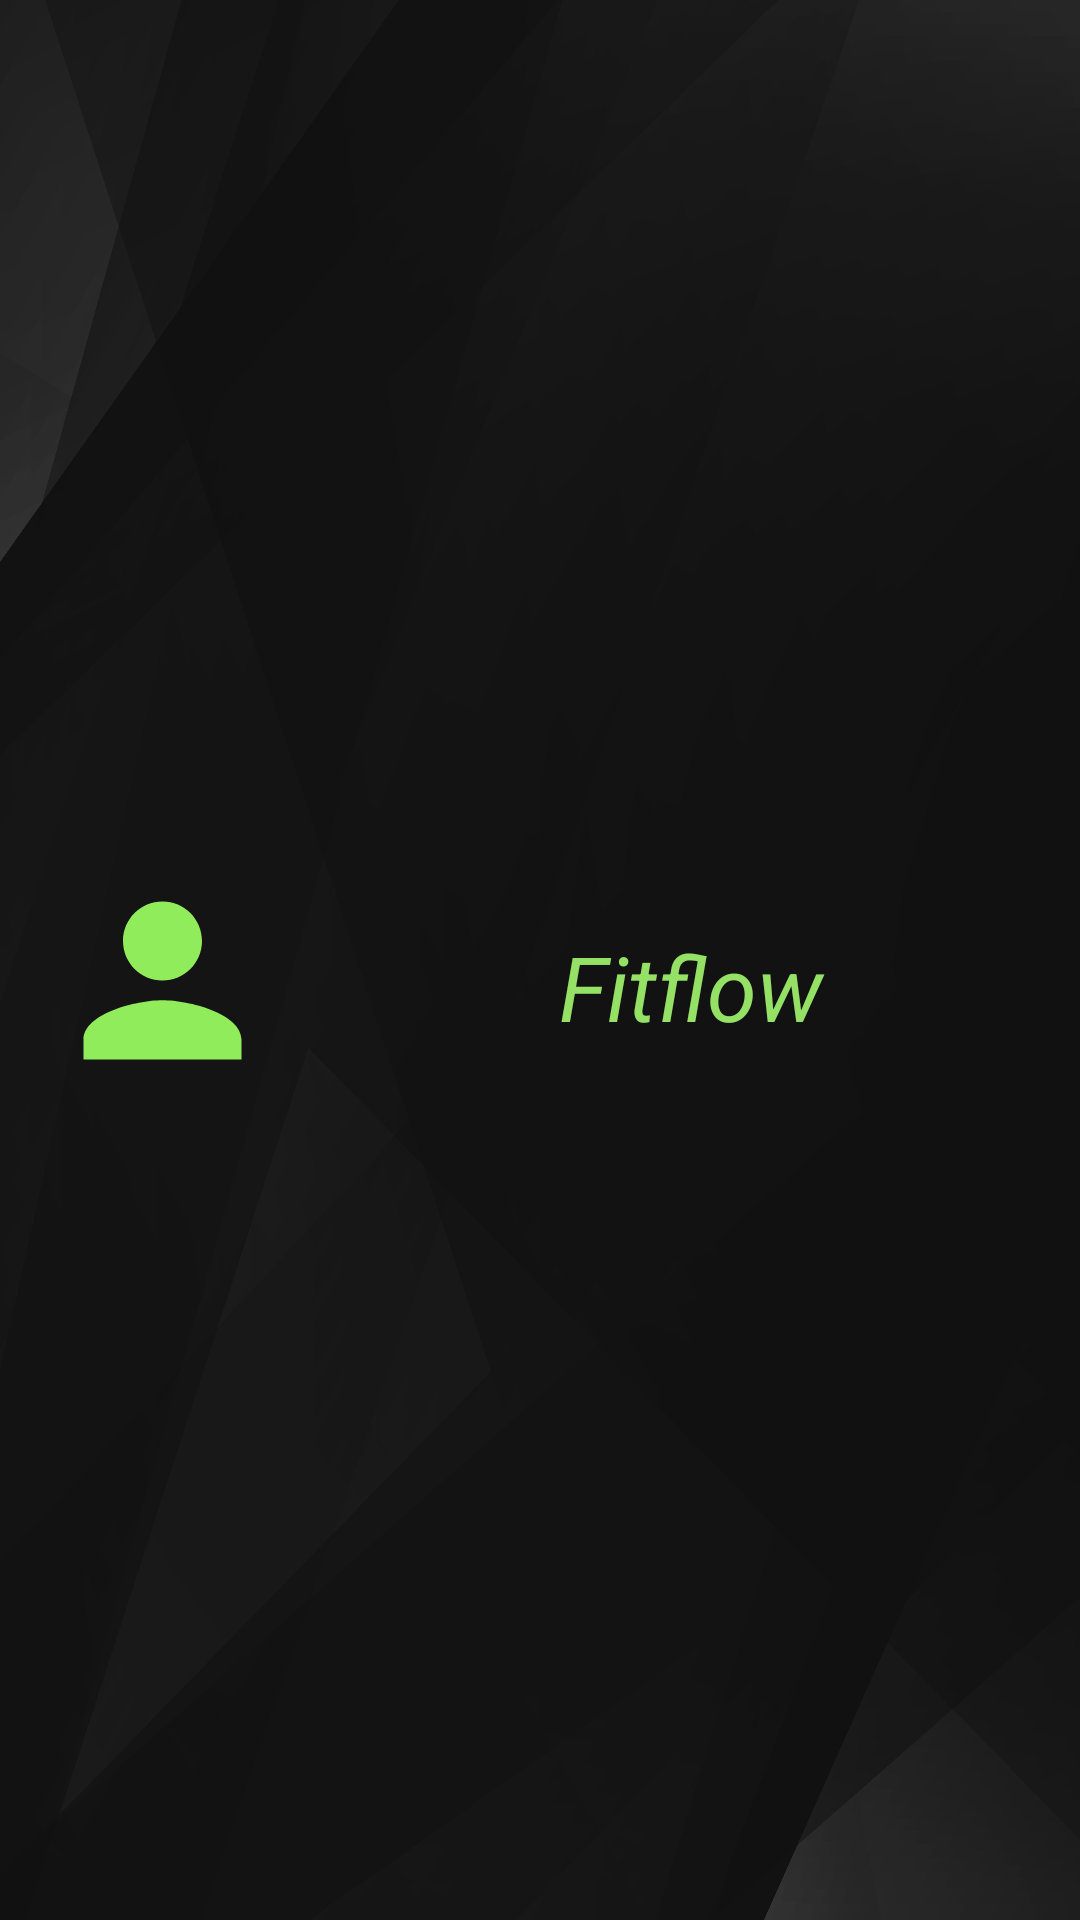

Icon click points for this 1080px×1920px phone screenshot, format point (x, y):
user: point (162, 980)
